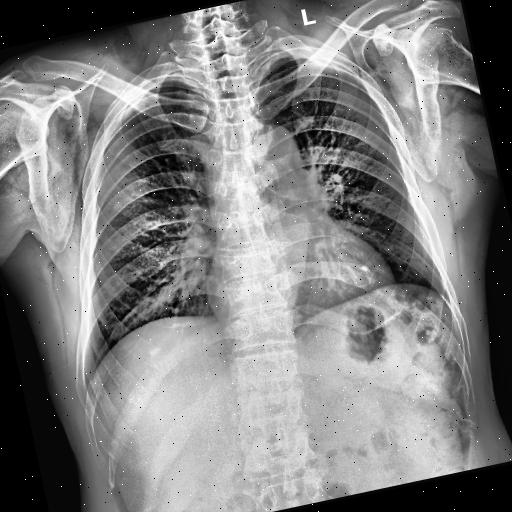0- Aortic enlargement: (240, 118, 309, 206), (242, 118, 302, 178)
11- Pleural thickening: (257, 40, 343, 82), (106, 90, 154, 124)
13- Pulmonary fibrosis: (110, 200, 123, 212), (110, 202, 120, 211)
3- Cardiomegaly: (198, 221, 397, 333), (203, 243, 396, 319)
8- Nodule-Mass: (110, 200, 123, 212)
9- Other lesion: (110, 202, 120, 211)
